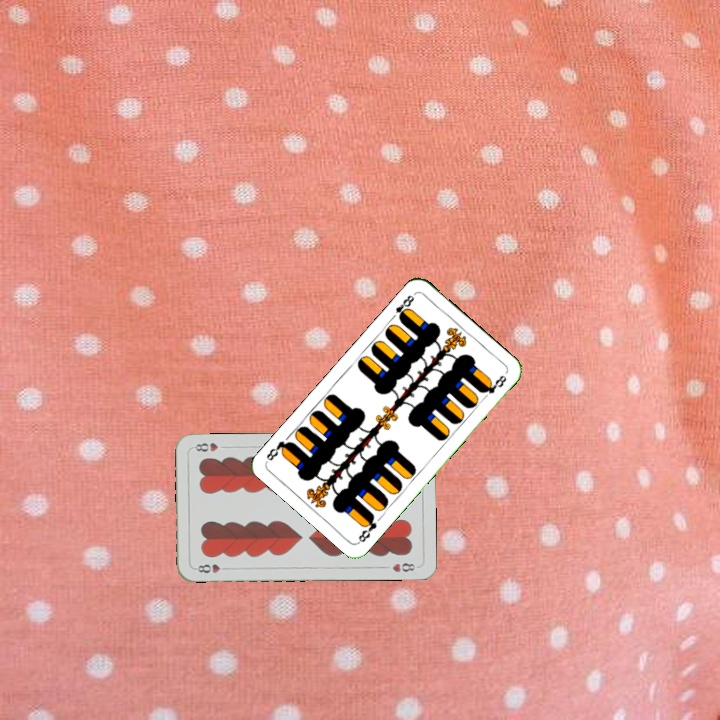E8: (387, 291, 417, 323), (354, 510, 379, 545)
H8: (191, 560, 232, 575)
